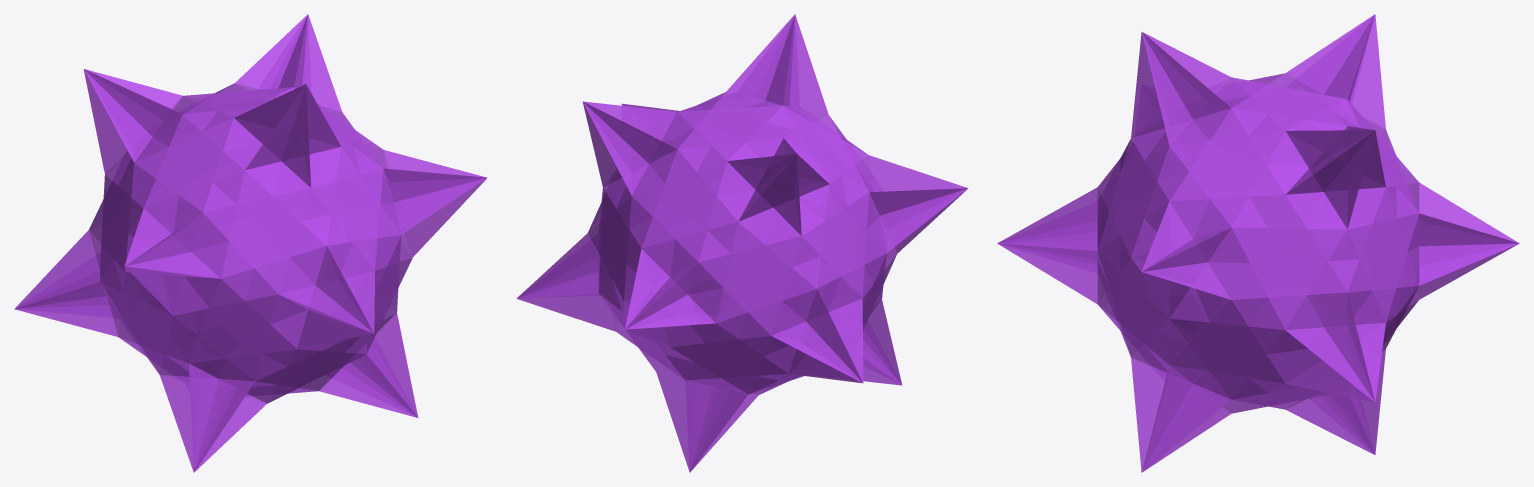
The model's file is 17_Dodecaugmented_Seside.obj.
3 renders of one model, left to right at view 1: azimuth 30°, elevation 25°; view 2: azimuth 150°, elevation 25°; view 3: azimuth 270°, elevation 25°, orthographic. The views are drawn at different scales.
Bounding box in the file's own units: 3.76 × 3.95 × 4.42.
